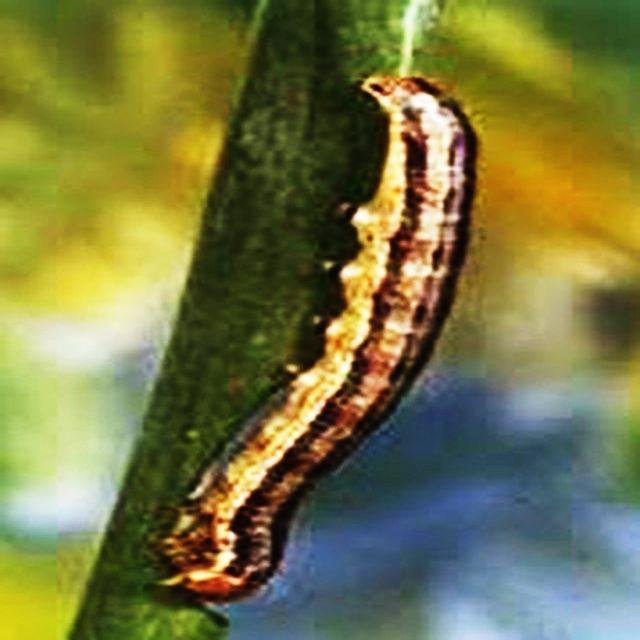gusano_cogollero: (140, 64, 480, 604)
